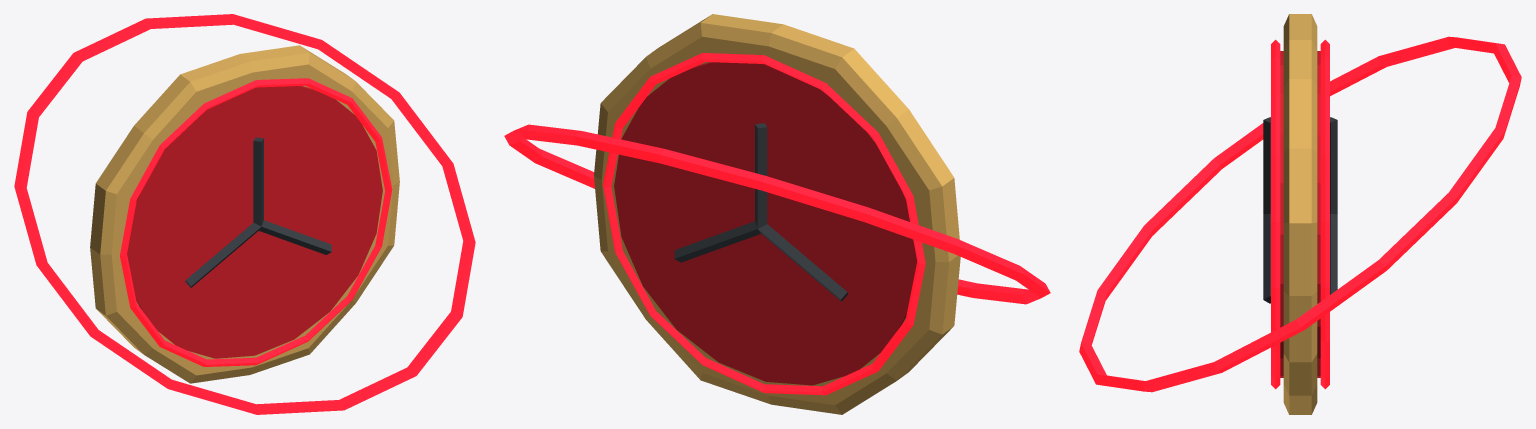
File: points-100-lod0.glb
3 renders of one model, left to right at view 1: azimuth 30°, elevation 25°; view 2: azimuth 150°, elevation 25°; view 3: azimuth 270°, elevation 25°, orthographic. The views are drawn at different scales.
Parts seen in each view (by area): view 1: red enamel face, chamfered gear rim, orbit ring, red luminous inset, neutral three spoke glyph, neutral three spoke glyph.001, neutral three spoke glyph.002; view 2: red enamel face.001, chamfered gear rim, orbit ring, red luminous inset.001, neutral three spoke glyph.004, neutral three spoke glyph.005, neutral three spoke glyph.003; view 3: orbit ring, chamfered gear rim, red luminous inset, red luminous inset.001, red enamel face, red enamel face.001, neutral three spoke glyph, neutral three spoke glyph.003, neutral three spoke glyph.002, neutral three spoke glyph.005.
Boxes of the visible parts, x1,y1,x2,y2 form: red enamel face: (127,86,382,358); chamfered gear rim: (90,45,399,383); orbit ring: (14,14,475,414); red luminous inset: (120,78,392,366); neutral three spoke glyph: (253,137,263,226); neutral three spoke glyph.001: (185,222,261,287); neutral three spoke glyph.002: (259,220,331,254); red enamel face.001: (614,62,917,385); chamfered gear rim: (594,14,960,414); orbit ring: (504,124,1050,304); red luminous inset.001: (603,53,925,395); neutral three spoke glyph.004: (758,224,847,301); neutral three spoke glyph.005: (674,221,760,262); neutral three spoke glyph.003: (755,123,767,228); orbit ring: (1079,36,1521,392); chamfered gear rim: (1283,14,1317,414); red luminous inset: (1271,39,1280,389); red luminous inset.001: (1320,39,1329,389); red enamel face: (1280,51,1283,377); red enamel face.001: (1317,51,1320,377); neutral three spoke glyph: (1263,117,1270,214); neutral three spoke glyph.003: (1330,117,1337,214); neutral three spoke glyph.002: (1263,214,1270,303); neutral three spoke glyph.005: (1330,214,1337,294).
Bounding box in the file's own units: 1.04 × 0.7488 × 0.86.
